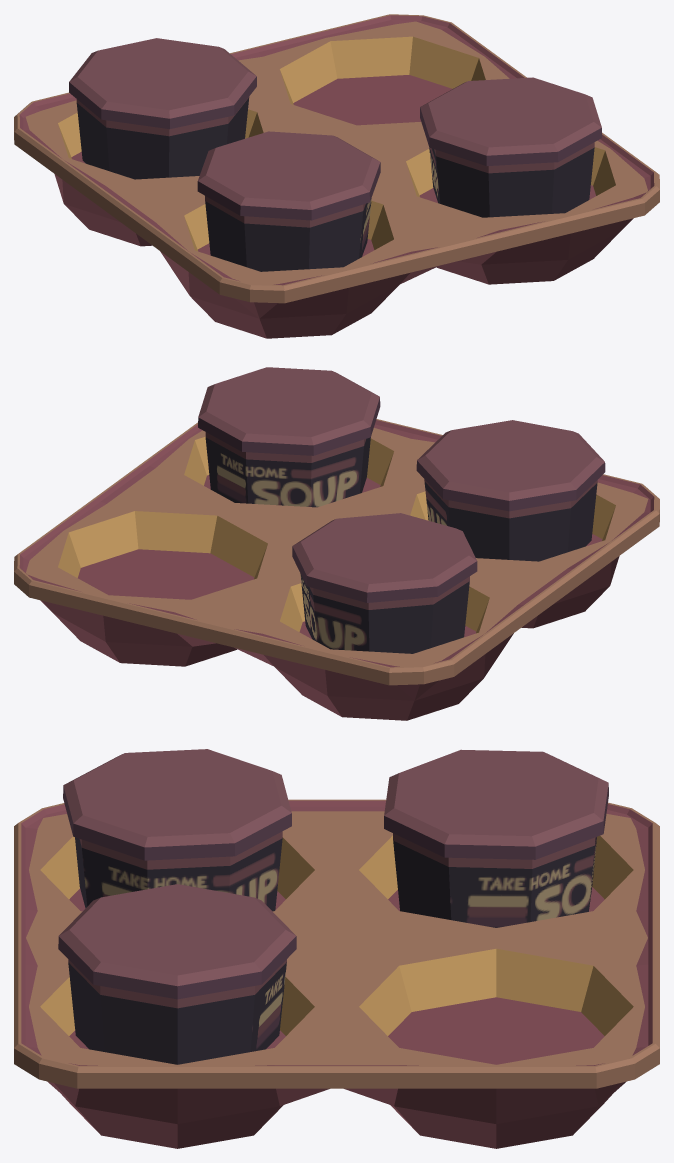
Rendered from Carryable_Soup_3.fbx.
3 renders of one model, top to bottom at view 1: azimuth 30°, elevation 25°; view 2: azimuth 150°, elevation 25°; view 3: azimuth 270°, elevation 25°, orthographic. The views are drawn at different scales.
Parts seen in each view (by area): view 1: Carryable_Soup_3; view 2: Carryable_Soup_3; view 3: Carryable_Soup_3.
Boxes of the visible parts, x1,y1,x2,y2 form: Carryable_Soup_3: [14, 14, 659, 338]; Carryable_Soup_3: [14, 367, 659, 720]; Carryable_Soup_3: [14, 749, 659, 1148].
Size of the model in its own units: 122 by 36.24 by 122.
